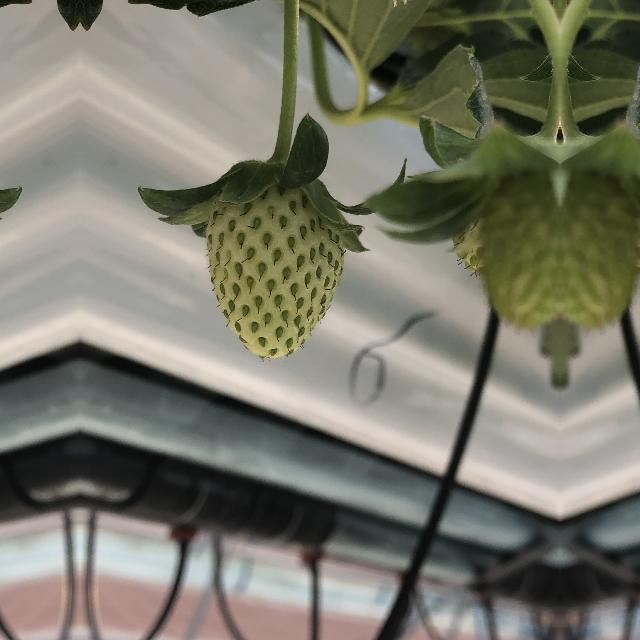Health_25: (188, 160, 364, 366)
